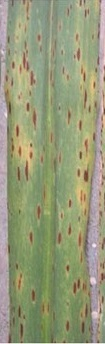Bercak Coklat: (26, 287, 40, 305), (14, 320, 27, 339), (30, 107, 39, 132), (72, 46, 84, 62), (63, 319, 74, 336), (27, 67, 36, 87), (34, 203, 43, 223), (82, 166, 91, 185), (63, 260, 74, 275), (55, 229, 64, 247), (74, 230, 83, 248), (15, 163, 22, 185), (13, 122, 22, 139), (33, 30, 45, 42), (15, 142, 24, 158), (76, 118, 85, 133), (78, 320, 86, 336), (65, 221, 73, 237), (27, 230, 35, 245), (66, 196, 74, 211), (71, 281, 78, 298), (24, 100, 31, 115), (75, 151, 85, 161), (26, 149, 35, 160)
